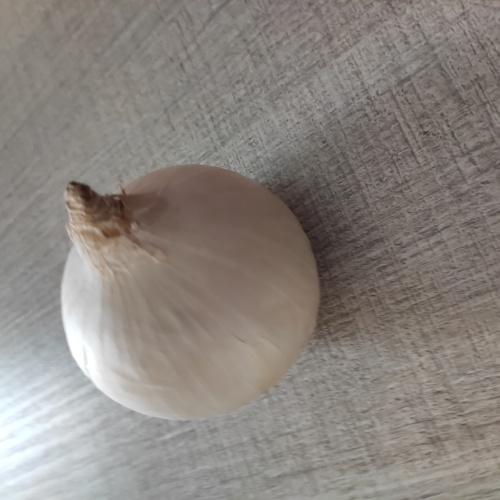cipolla: (53, 157, 329, 432)
